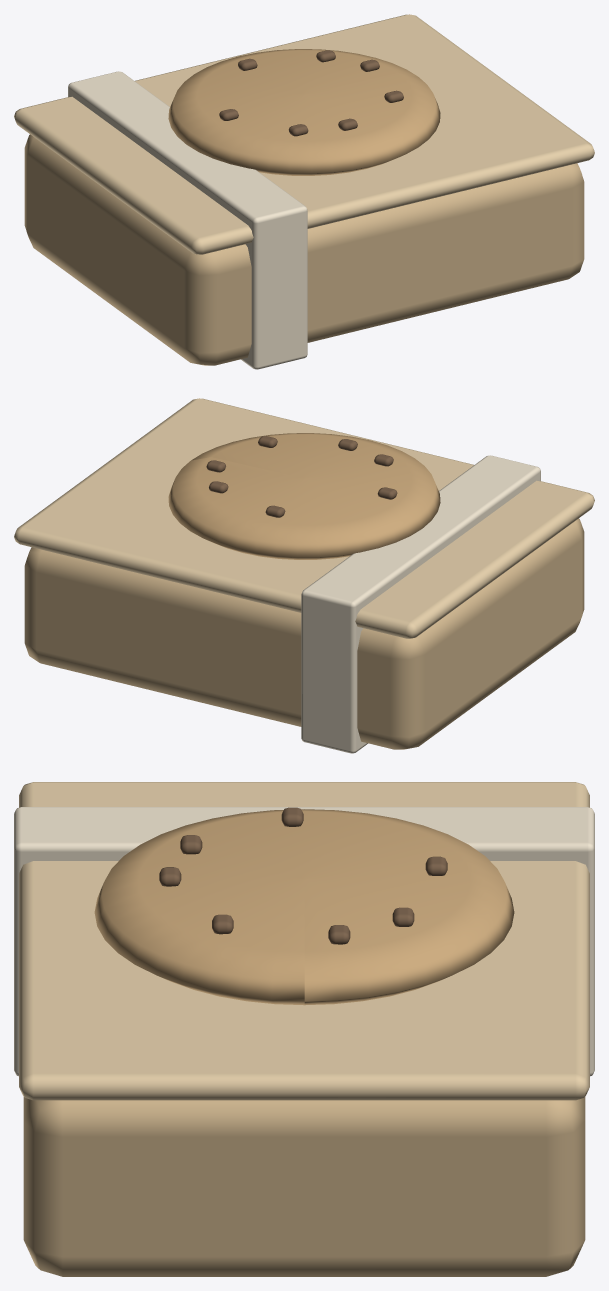
Rendered from product-off.cookie.glb.
3 views of the same model, one above another, from view 1: azimuth 30°, elevation 25°; view 2: azimuth 150°, elevation 25°; view 3: azimuth 270°, elevation 25° (orthographic). The views are drawn at different scales.
Parts seen in each view (by area): view 1: product-off.cookie; view 2: product-off.cookie; view 3: product-off.cookie.
Part boxes in pixels (x1,y1,x2,y2): product-off.cookie: (14,14,594,369); product-off.cookie: (14,398,594,753); product-off.cookie: (14,782,594,1276).
Size of the model in its own units: 0.294 by 0.125 by 0.238.
